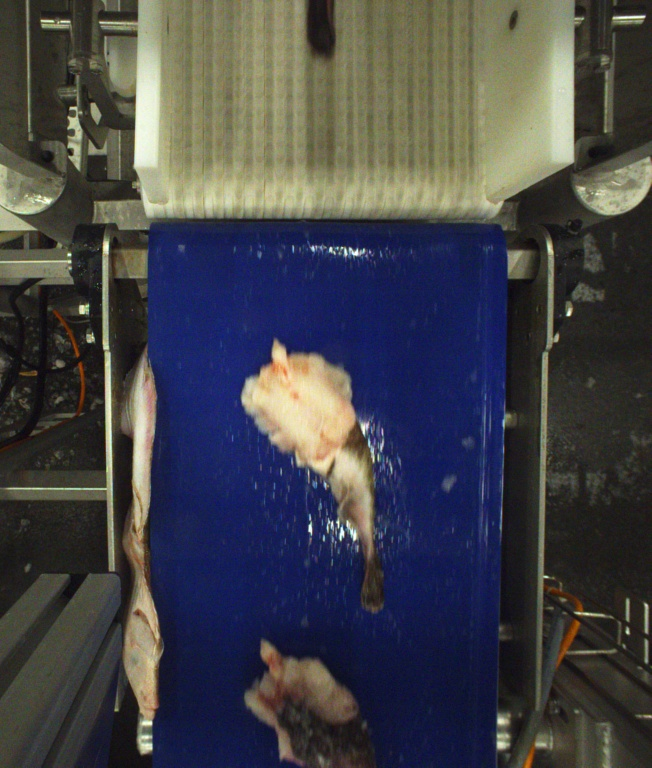ANF: (245, 347, 390, 613)
